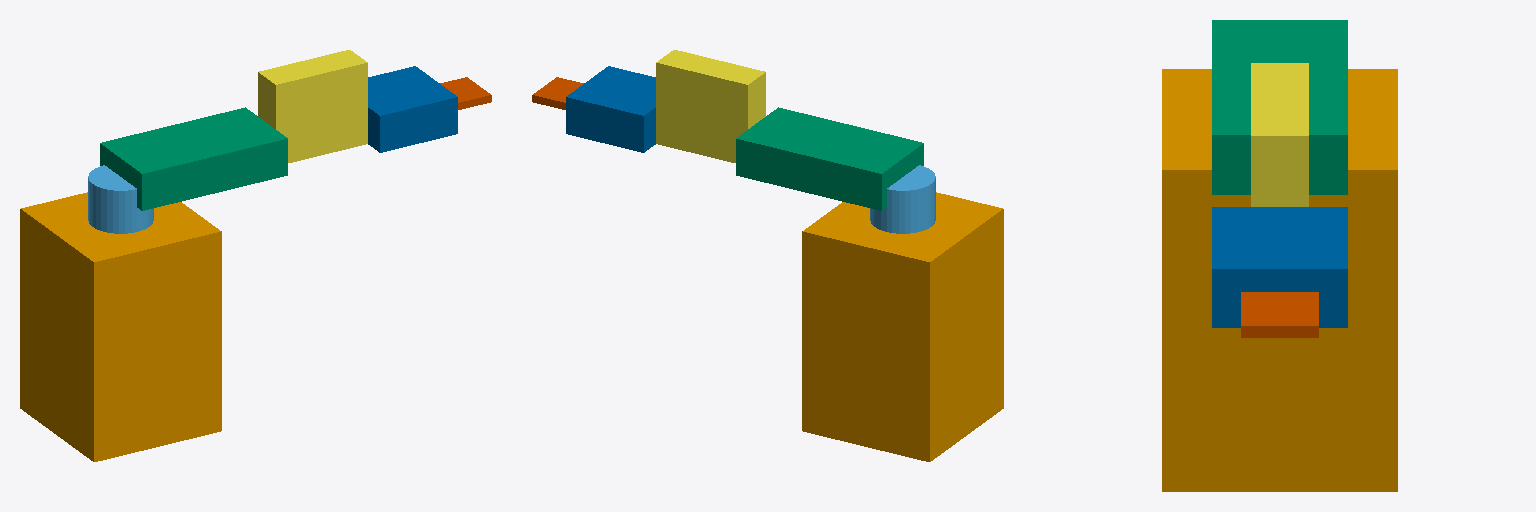
URDF robot description (mrm):
<?xml version="1.0" ?>
<!-- =================================================================================== -->
<!-- |    This document was autogenerated by xacro from arm.xacro                      | -->
<!-- |    EDITING THIS FILE BY HAND IS NOT RECOMMENDED                                 | -->
<!-- =================================================================================== -->
<robot name="mrm">
  <!-- END - Include -->
  <link name="base_link">
    <inertial>
      <mass value="1024"/>
      <origin rpy="0 0 0" xyz="0 0 0.0675"/>
      <inertia ixx="170.667" ixy="0" ixz="0" iyy="170.667" iyz="0" izz="170.667"/>
    </inertial>
    <collision>
      <origin rpy="0 0 0" xyz="0 0 0.0675"/>
      <geometry>
        <box size="0.09 0.09 0.135"/>
      </geometry>
    </collision>
    <visual>
      <origin rpy="0 0 0" xyz="0 0 0.0675"/>
      <geometry>
        <box size="0.09 0.09 0.135"/>
      </geometry>
    </visual>
  </link>
  <link name="link_01">
    <inertial>
      <mass value="0.01"/>
      <origin rpy="0 0 0" xyz="0 0 0.0145"/>
      <inertia ixx="1.0" ixy="0" ixz="0" iyy="1.0" iyz="0" izz="1.0"/>
    </inertial>
    <collision>
      <origin rpy="0 0 0" xyz="0 0 0.0145"/>
      <geometry>
        <cylinder length="0.029" radius="0.02"/>
      </geometry>
    </collision>
    <visual>
      <origin rpy="0 0 0" xyz="0 0 0.0145"/>
      <geometry>
        <cylinder length="0.029" radius="0.02"/>
      </geometry>
    </visual>
  </link>
  <link name="link_02">
    <inertial>
      <mass value="0.1"/>
      <origin rpy="0 0 0" xyz="0.0515 0 0"/>
      <inertia ixx="0.1" ixy="0" ixz="0" iyy="0.1" iyz="0" izz="0.1"/>
    </inertial>
    <collision>
      <origin rpy="0 0 0" xyz="0.0515 0 0"/>
      <geometry>
        <box size="0.103 0.052 0.025"/>
      </geometry>
    </collision>
    <visual>
      <origin rpy="0 0 0" xyz="0.0515 0 0"/>
      <geometry>
        <box size="0.103 0.052 0.025"/>
      </geometry>
    </visual>
  </link>
  <link name="link_03">
    <inertial>
      <mass value="0.1"/>
      <origin rpy="0 0 0" xyz="0.0325 0 0"/>
      <inertia ixx="0.1" ixy="0" ixz="0" iyy="0.1" iyz="0" izz="0.1"/>
    </inertial>
    <collision>
      <origin rpy="0 0 0" xyz="0.0325 0 0"/>
      <geometry>
        <box size="0.065 0.022 0.055"/>
      </geometry>
    </collision>
    <visual>
      <origin rpy="0 0 0" xyz="0.0325 0 0"/>
      <geometry>
        <box size="0.065 0.022 0.055"/>
      </geometry>
    </visual>
  </link>
  <link name="link_04">
    <inertial>
      <mass value="0.1"/>
      <origin rpy="0 0 0" xyz="0.0275 0 0"/>
      <inertia ixx="0.1" ixy="0" ixz="0" iyy="0.1" iyz="0" izz="0.1"/>
    </inertial>
    <collision>
      <origin rpy="0 0 0" xyz="0.0275 0 0"/>
      <geometry>
        <box size="0.055 0.052 0.025"/>
      </geometry>
    </collision>
    <visual>
      <origin rpy="0 0 0" xyz="0.0275 0 0"/>
      <geometry>
        <box size="0.055 0.052 0.025"/>
      </geometry>
    </visual>
  </link>
  <link name="link_05">
    <inertial>
      <mass value="0.1"/>
      <origin rpy="0 0 0" xyz="0.015 0 0"/>
      <inertia ixx="0.1" ixy="0" ixz="0" iyy="0.1" iyz="0" izz="0.1"/>
    </inertial>
    <collision>
      <origin rpy="0 0 0" xyz="0.015 0 0"/>
      <geometry>
        <box size="0.03 0.03 0.005"/>
      </geometry>
    </collision>
    <visual>
      <origin rpy="0 0 0" xyz="0.015 0 0"/>
      <geometry>
        <box size="0.03 0.03 0.005"/>
      </geometry>
    </visual>
  </link>
  <link name="link_clawR">
    <inertial>
      <mass value="0.1"/>
      <origin rpy="0 0 0" xyz="-0.03 -0.014 -0.005"/>
      <inertia ixx="0.1" ixy="0" ixz="0" iyy="0.1" iyz="0" izz="0.1"/>
    </inertial>
    <collision>
      <origin rpy="0 0 0" xyz="-0.03 -0.014 -0.005"/>
      <geometry>
        <mesh filename="/dev_ws/meshes/gripperRight.stl" scale="0.001 0.001 0.001"/>
      </geometry>
    </collision>
    <visual>
      <origin rpy="0 0 0" xyz="-0.03 -0.014 -0.005"/>
      <geometry>
        <mesh filename="/dev_ws/meshes/gripperRight.stl" scale="0.001 0.001 0.001"/>
      </geometry>
      <material name="light_black"/>
    </visual>
  </link>
  <link name="link_clawL">
    <inertial>
      <mass value="0.1"/>
      <origin rpy="0 0 0" xyz="-0.03 0.014 -0.005"/>
      <inertia ixx="0.1" ixy="0" ixz="0" iyy="0.1" iyz="0" izz="0.1"/>
    </inertial>
    <collision>
      <origin rpy="0 0 0" xyz="-0.03 0.014 -0.005"/>
      <geometry>
        <mesh filename="/dev_ws/meshes/gripperLeft.stl" scale="0.001 0.001 0.001"/>
      </geometry>
    </collision>
    <visual>
      <origin rpy="0 0 0" xyz="-0.03 0.014 -0.005"/>
      <geometry>
        <mesh filename="/dev_ws/meshes/gripperLeft.stl" scale="0.001 0.001 0.001"/>
      </geometry>
      <material name="light_black"/>
    </visual>
  </link>
  <joint name="base_link__link_01" type="revolute">
    <axis xyz="0 0 1"/>
    <limit effort="1000" lower="-1.5708" upper="1.5708" velocity="0.5"/>
    <origin rpy="0 0 0" xyz="0 0 0.135"/>
    <parent link="base_link"/>
    <child link="link_01"/>
    <dynamics damping="10.0" friction="10.0"/>
  </joint>
  <joint name="link_01__link_02" type="revolute">
    <axis xyz="0 -1 0"/>
    <limit effort="1000" lower="0.0" upper="1.5708" velocity="0.5"/>
    <origin rpy="0 0 0" xyz="0 0 0.029"/>
    <parent link="link_01"/>
    <child link="link_02"/>
    <dynamics damping="10.0" friction="10.0"/>
  </joint>
  <joint name="link_02__link_03" type="revolute">
    <axis xyz="0 1 0"/>
    <limit effort="1000" lower="-1.5708" upper="1.5708" velocity="0.5"/>
    <origin rpy="0 0 0" xyz="0.103 0 0.015"/>
    <parent link="link_02"/>
    <child link="link_03"/>
    <dynamics damping="10.0" friction="10.0"/>
  </joint>
  <joint name="link_03__link_04" type="revolute">
    <axis xyz="0 1 0"/>
    <limit effort="1000" lower="-1.5708" upper="1.5708" velocity="0.5"/>
    <origin rpy="0 0 0" xyz="0.065 0 -0.015"/>
    <parent link="link_03"/>
    <child link="link_04"/>
    <dynamics damping="10.0" friction="10.0"/>
  </joint>
  <joint name="link_04__link_05" type="fixed">
    <origin rpy="0 0 0" xyz="0.055 0 0"/>
    <parent link="link_04"/>
    <child link="link_05"/>
  </joint>
  <joint name="link_05__link_clawL" type="revolute">
    <axis xyz="0 0 -1"/>
    <limit effort="1000" lower="0.0" upper="0.45" velocity="0.5"/>
    <origin rpy="0 0 0" xyz="0.03 -0.014  -0.00"/>
    <parent link="link_05"/>
    <child link="link_clawL"/>
    <dynamics damping="10.0" friction="10.0"/>
  </joint>
  <joint name="link_05__link_clawR" type="revolute">
    <axis xyz="0 0 1"/>
    <limit effort="1000" lower="0.0" upper="0.45" velocity="0.5"/>
    <origin rpy="0 0 0" xyz="0.03 +0.014  -0.00"/>
    <parent link="link_05"/>
    <child link="link_clawR"/>
    <dynamics damping="10.0" friction="10.0"/>
  </joint>
  <!-- END - Robot description Total weight = 1373.401  ==> 13473.065N-->
  <!-- This plugin will publish the joint_states for the selected joints 
            (which robot_state_publisher can then use to broadcast the approprate tf). -->
  <gazebo>
    <plugin filename="libgazebo_ros_joint_state_publisher.so" name="gazebo_ros_joint_state_publisher">
      <update_rate>20</update_rate>
      <joint_name>base_link__link_01</joint_name>
      <joint_name>link_01__link_02</joint_name>
      <joint_name>link_03__link_04</joint_name>
    </plugin>
  </gazebo>
  <!-- This plugin will read a JointTrajectory message from the /set_joint_trajectory topic 
            and move the machine accordingly. It's a bit clunky but it works. -->
  <!-- You'll probably want to add damping to the joints to stop them it flopping around. 
            e.g. <dynamics damping="10.0" friction="10.0"/> -->
  <!-- Here's an example message to publish to test it:
            ros2 topic pub -1 /set_joint_trajectory trajectory_msgs/msg/JointTrajectory  '{header: {frame_id: world}, joint_names: [slider_joint, arm_joint], points: [  {positions: {0.8,0.6}} ]}' 
            ros2 topic pub -1 /set_joint_trajectory trajectory_msgs/msg/JointTrajectory  '{header: {frame_id: world}, joint_names: [base_link__link_01], points: [  {positions: {1.8}} ]}'
            -->
  <gazebo>
    <plugin filename="libgazebo_ros_joint_pose_trajectory.so" name="gazebo_ros_joint_pose_trajectory">
      <update_rate>2</update_rate>
    </plugin>
  </gazebo>
</robot>

--- Render facts (derived) ---
Views: 3 orthographic renders of the robot side by side, from view 1: azimuth 30°, elevation 25°; view 2: azimuth 150°, elevation 25°; view 3: azimuth 270°, elevation 25°.
Robot: mrm — 8 links, 7 joints (6 revolute, 1 fixed); root link base_link; default pose: all joints at 0.
Links seen in each view (by area): view 1: base_link, link_02, link_03, link_04, link_01, link_05; view 2: base_link, link_02, link_03, link_04, link_01, link_05; view 3: base_link, link_02, link_04, link_03, link_05.
Boxes of the visible links, left/top/right/bottom form: base_link: left=20, top=192, right=221, bottom=461; link_02: left=100, top=107, right=287, bottom=210; link_03: left=258, top=50, right=367, bottom=162; link_04: left=368, top=66, right=457, bottom=152; link_01: left=88, top=165, right=153, bottom=233; link_05: left=440, top=77, right=491, bottom=109; base_link: left=802, top=192, right=1003, bottom=461; link_02: left=736, top=107, right=923, bottom=210; link_03: left=656, top=50, right=765, bottom=162; link_04: left=566, top=66, right=655, bottom=152; link_01: left=870, top=165, right=935, bottom=233; link_05: left=532, top=77, right=583, bottom=109; base_link: left=1162, top=69, right=1397, bottom=491; link_02: left=1212, top=20, right=1347, bottom=194; link_04: left=1212, top=207, right=1347, bottom=327; link_03: left=1251, top=63, right=1308, bottom=206; link_05: left=1241, top=292, right=1318, bottom=337.
Size in the robot's own frame: 0.298 by 0.09 by 0.2065 metres.
Geometry: only primitive shapes (box / cylinder / sphere) drawn; not drawn: 2 mesh visuals (reference in a form the renderer does not follow).